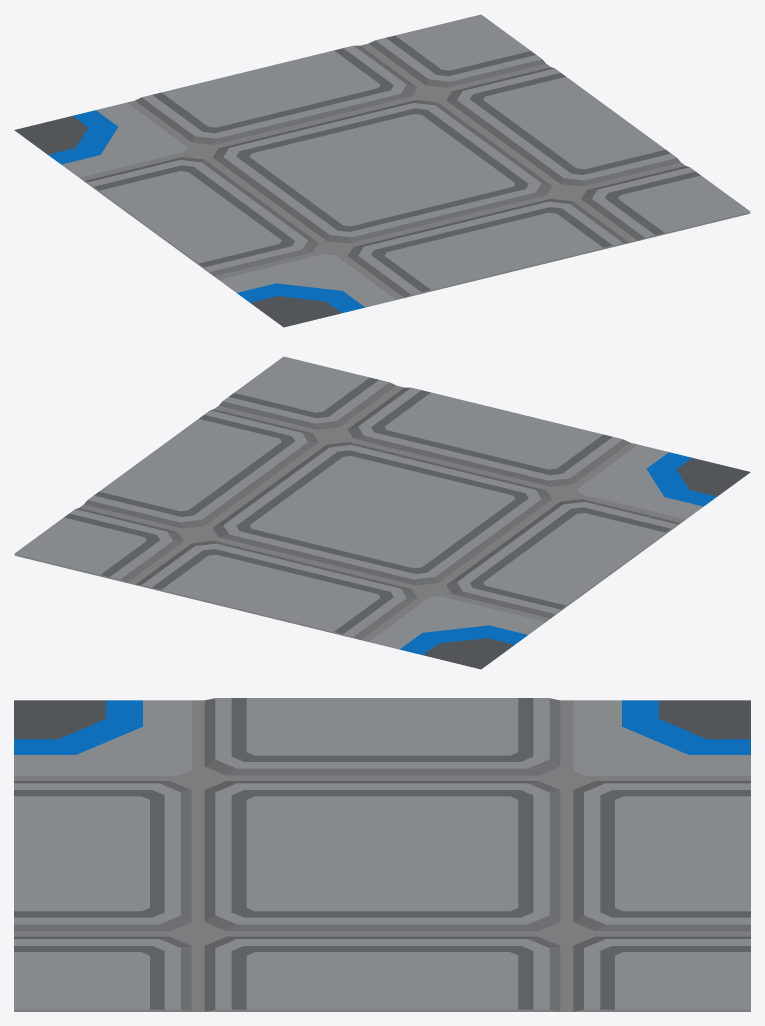
The model's file is Floor_type_B_033.glb.
3 views of the same model, one above another, from view 1: azimuth 30°, elevation 25°; view 2: azimuth 150°, elevation 25°; view 3: azimuth 270°, elevation 25° (orthographic). The views are drawn at different scales.
Parts seen in each view (by area): view 1: Floor_type_B_033; view 2: Floor_type_B_033; view 3: Floor_type_B_033.
Part boxes in pixels (x1,y1,x2,y2): Floor_type_B_033: (14,14,750,327); Floor_type_B_033: (14,356,750,669); Floor_type_B_033: (14,698,750,1011).
Bounding box in the file's own units: 4 × 0.0134 × 4.
2 materials, 2 textured.
